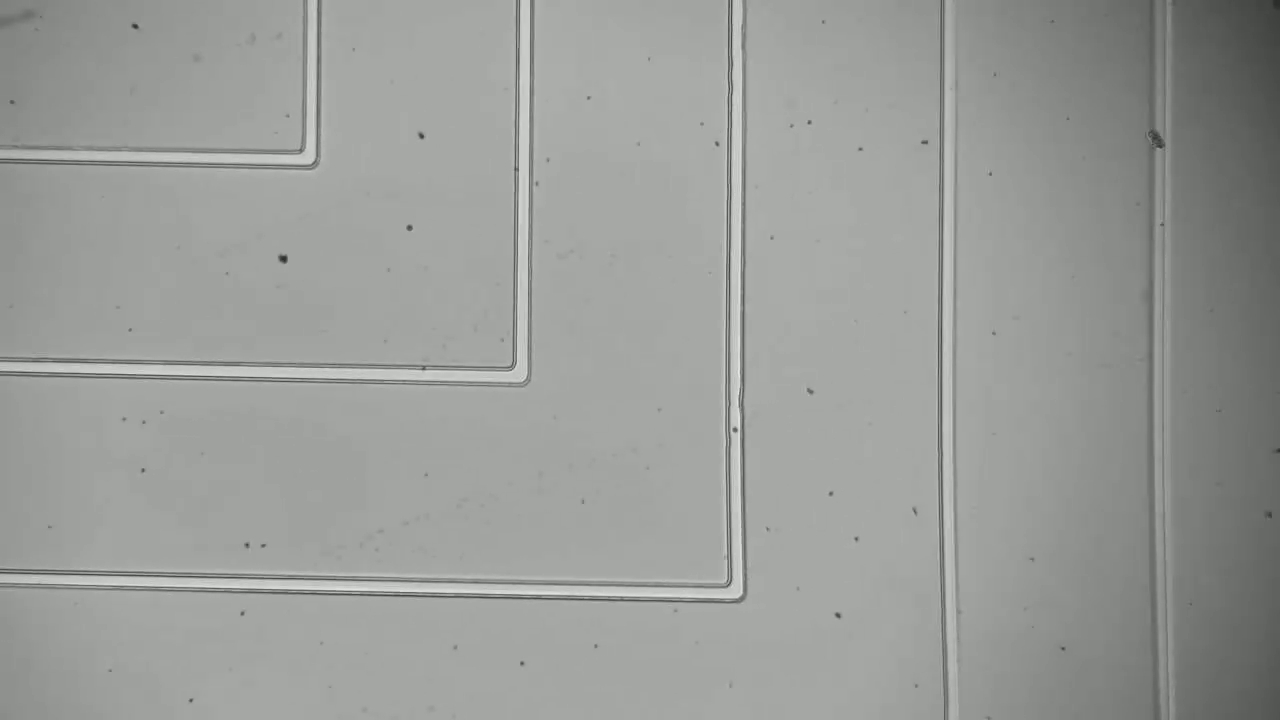stains_enbedded: (1140, 119, 1177, 156)
